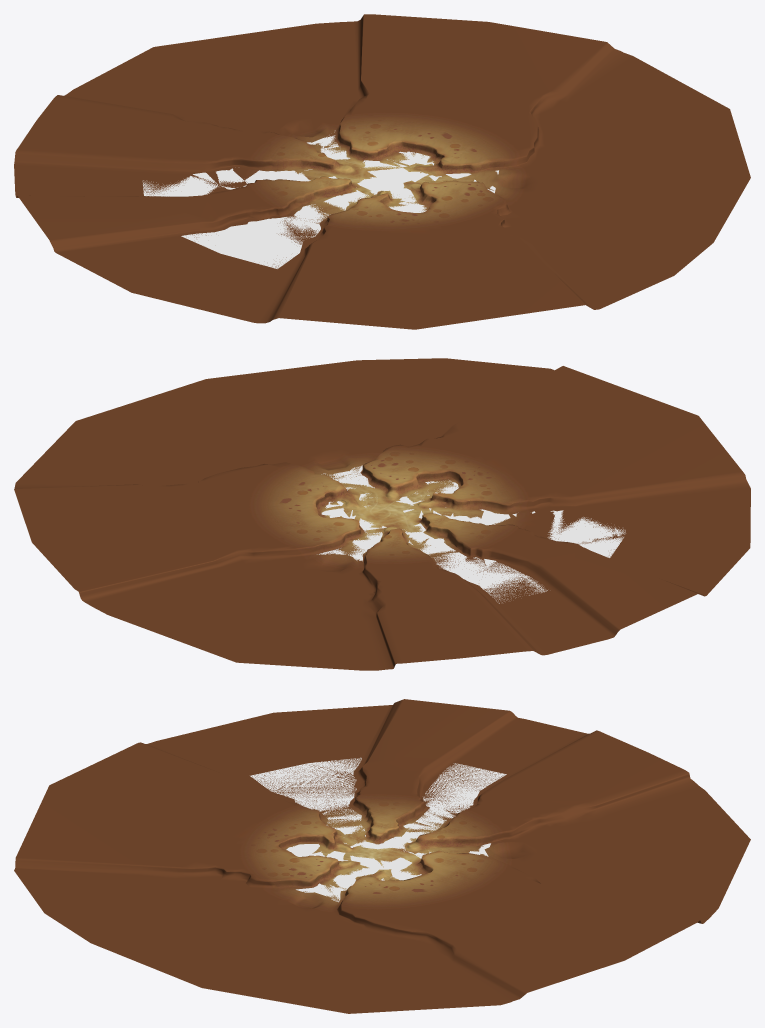
File: Terrain.fbx
3 renders of one model, top to bottom at view 1: azimuth 30°, elevation 25°; view 2: azimuth 150°, elevation 25°; view 3: azimuth 270°, elevation 25°, orthographic. The views are drawn at different scales.
Parts seen in each view (by area): view 1: floor, floorcollide; view 2: floor, floorcollide; view 3: floor, floorcollide.
Part boxes in pixels (<box>): floor: <box>14,14,750,329</box>; floorcollide: <box>142,130,498,268</box>; floor: <box>14,358,750,670</box>; floorcollide: <box>317,465,625,603</box>; floor: <box>14,699,750,1013</box>; floorcollide: <box>250,757,506,902</box>.
Bounding box in the file's own units: 411 × 5.4 × 415.
Materials: 2 (1 with a texture image).
